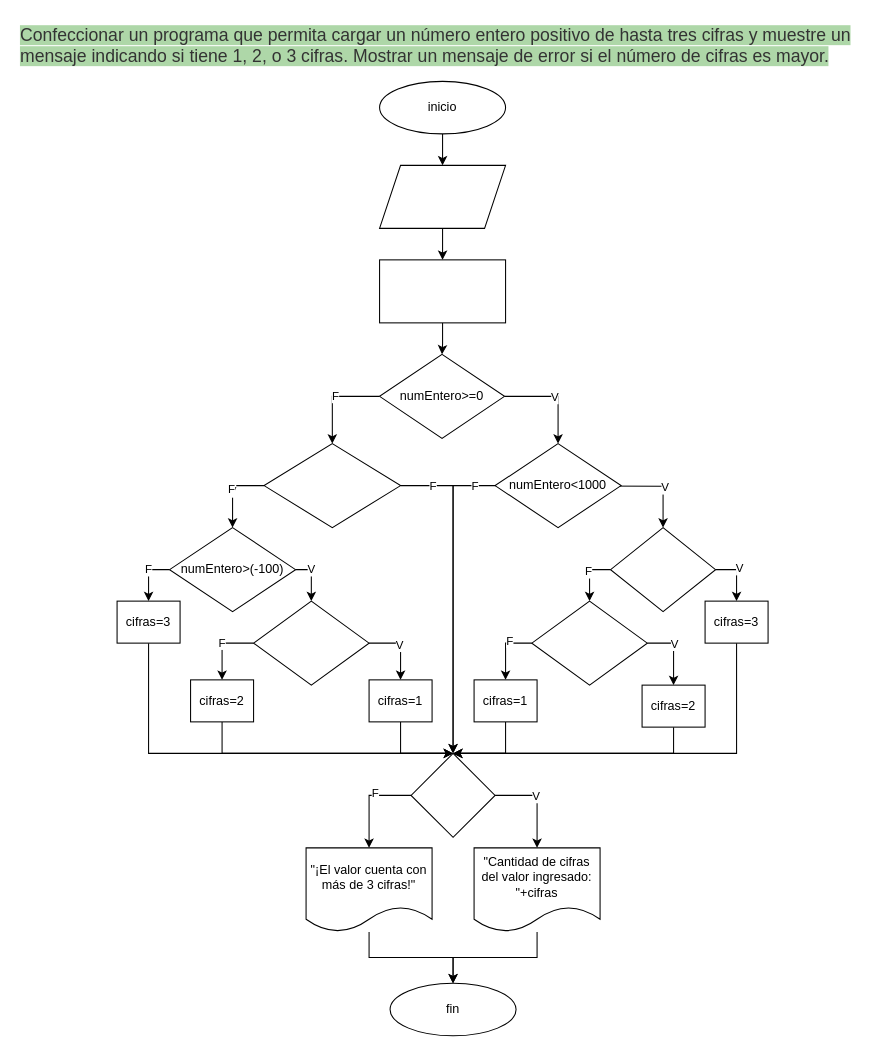
The diagram is 876 pixels wide and 1054 high, and some of its shapes have lost their labels. The box of each missing label's shape, as (x1, y1, x2, y2) in pixels:
cifras=0: (379, 259, 506, 323)
cifras>0: (410, 752, 495, 837)
numEntero: (379, 164, 506, 228)
numEntero>(-10): (253, 600, 369, 685)
numEntero>(-1000): (263, 443, 401, 528)
numEntero>9: (531, 600, 647, 685)
numEntero>99: (610, 527, 716, 612)
